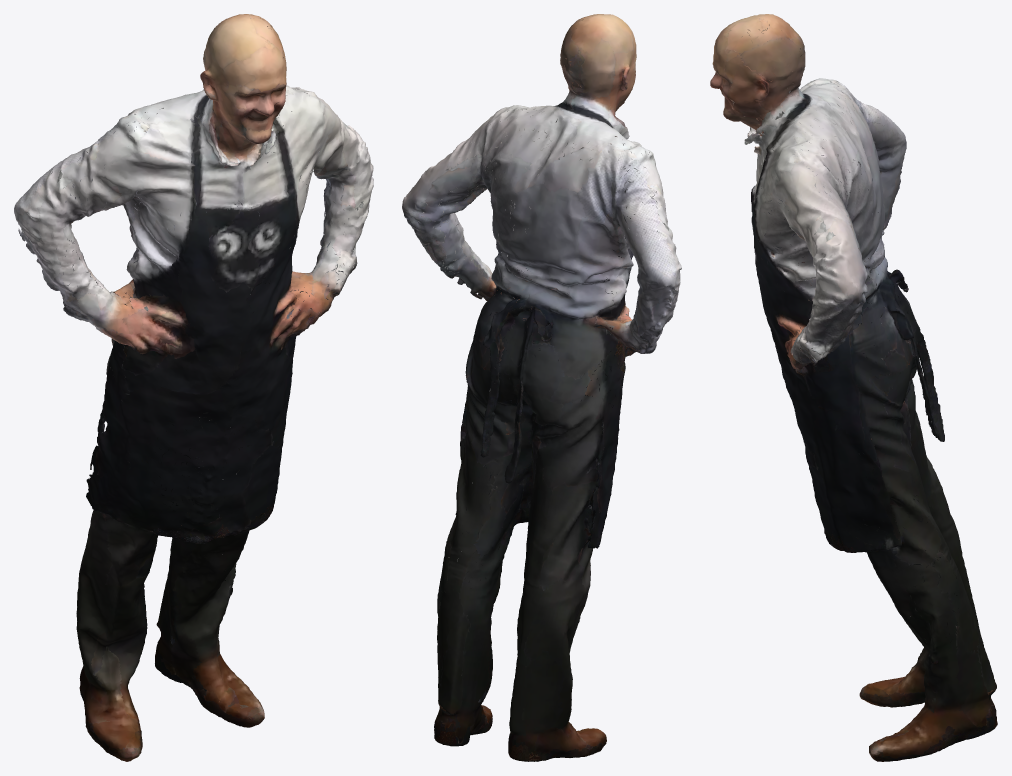
File: chef-transformed.glb
3 renders of one model, left to right at view 1: azimuth 30°, elevation 25°; view 2: azimuth 150°, elevation 25°; view 3: azimuth 270°, elevation 25°, orthographic. The views are drawn at different scales.
Visible parts, largest first — view 1: Object_2; view 2: Object_2; view 3: Object_2.
Boxes of the visible parts, <box> form: Object_2: <box>14,14,373,761</box>; Object_2: <box>402,14,681,761</box>; Object_2: <box>710,14,997,761</box>.
Bounding box in the file's own units: 0.7756 × 1.74 × 0.6365.
1 material, 1 textured.
